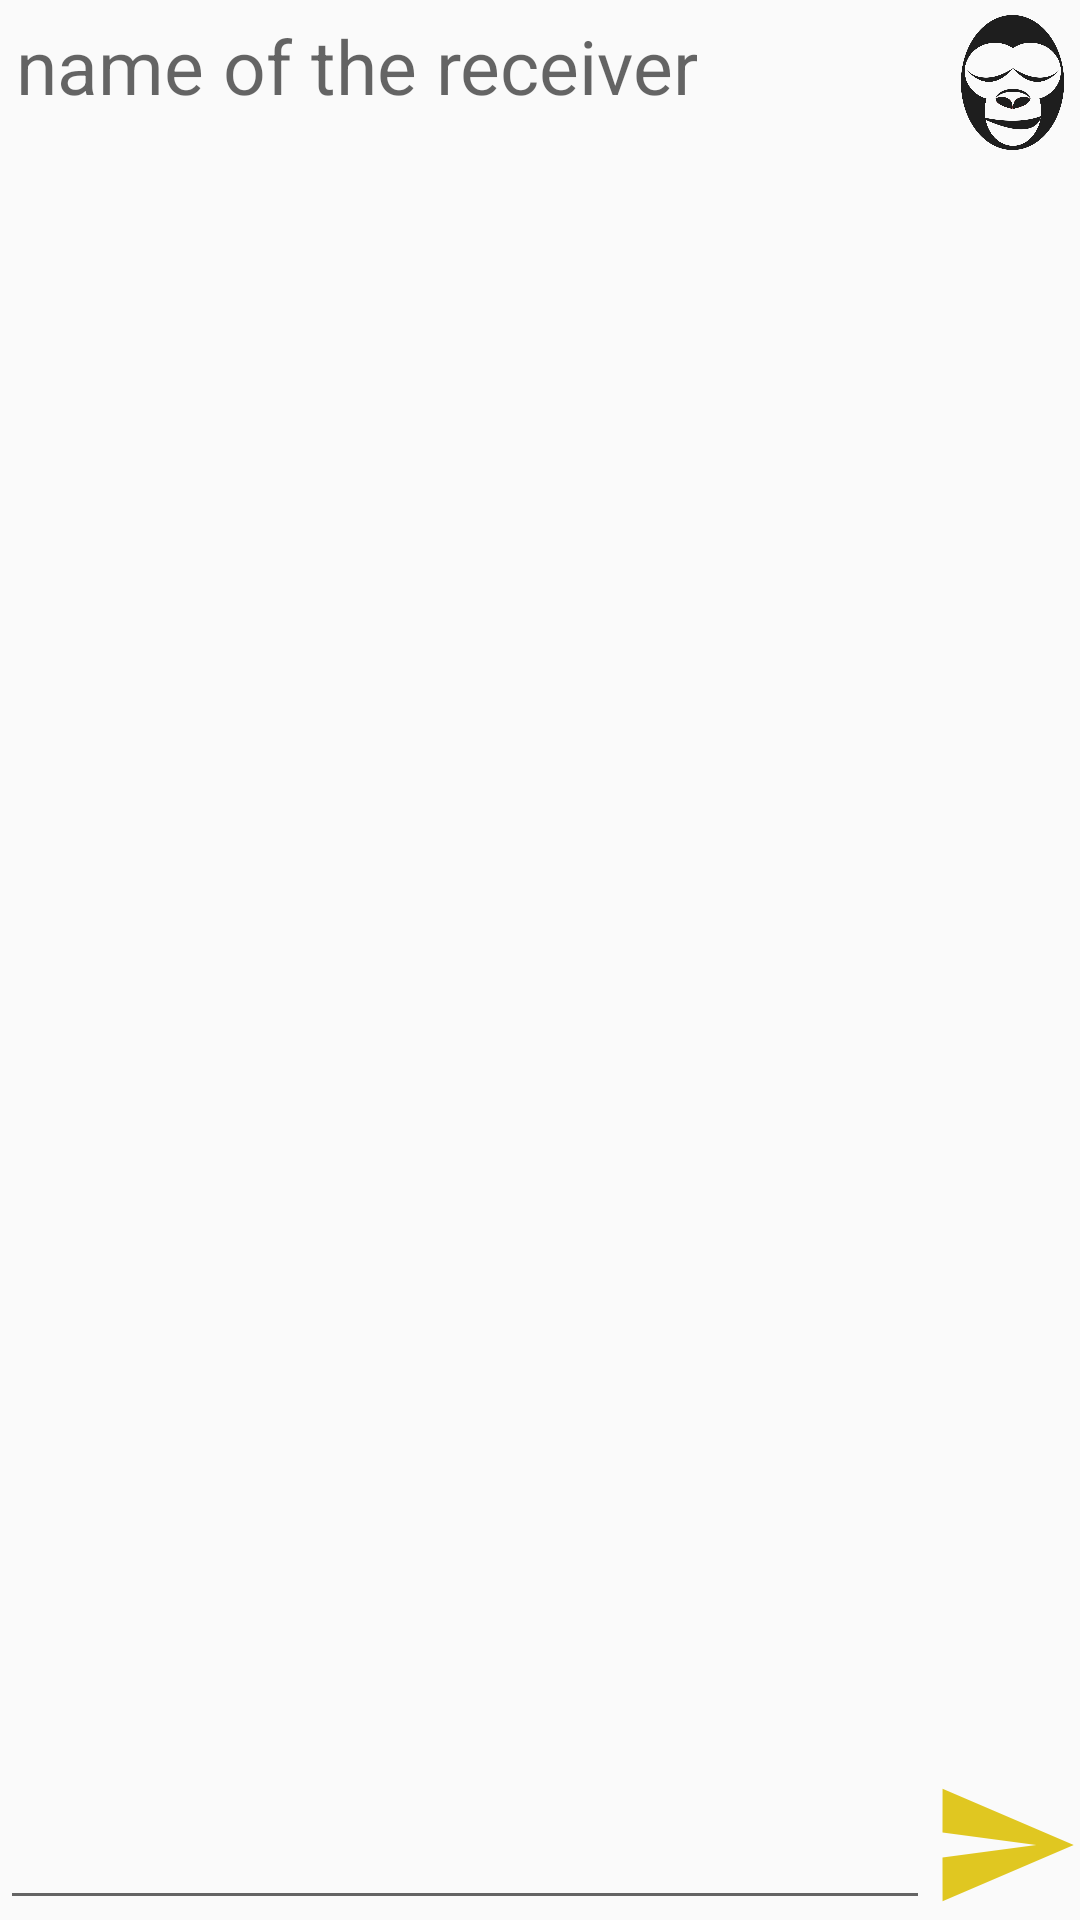

Where to tap for icons on this 1080w x 1920h app screen, as (x,y):
send: (1008,1845)
